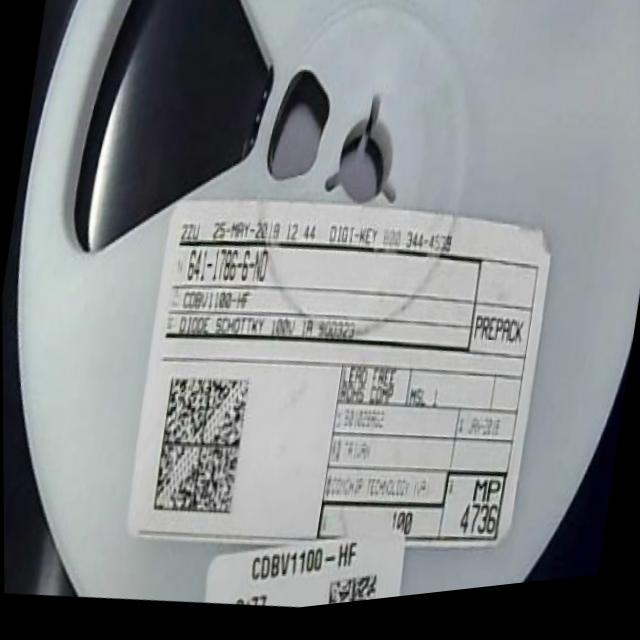datamatrix: (149, 369, 255, 530), (324, 573, 381, 613)
